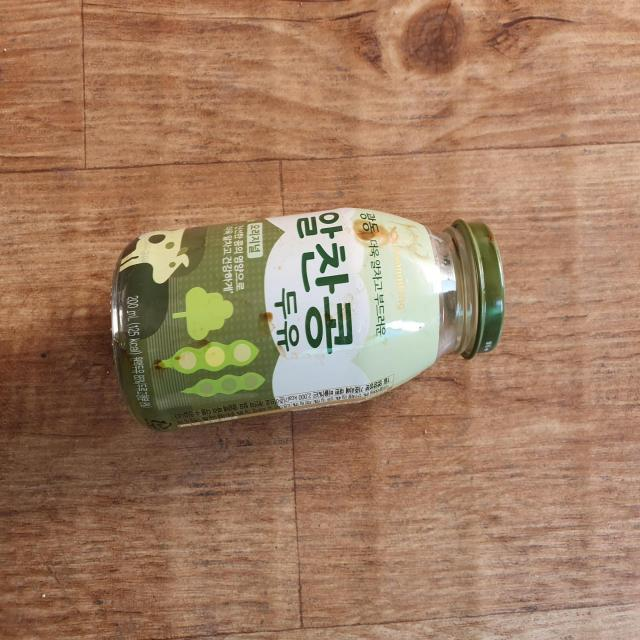glass: (110, 207, 505, 431)
